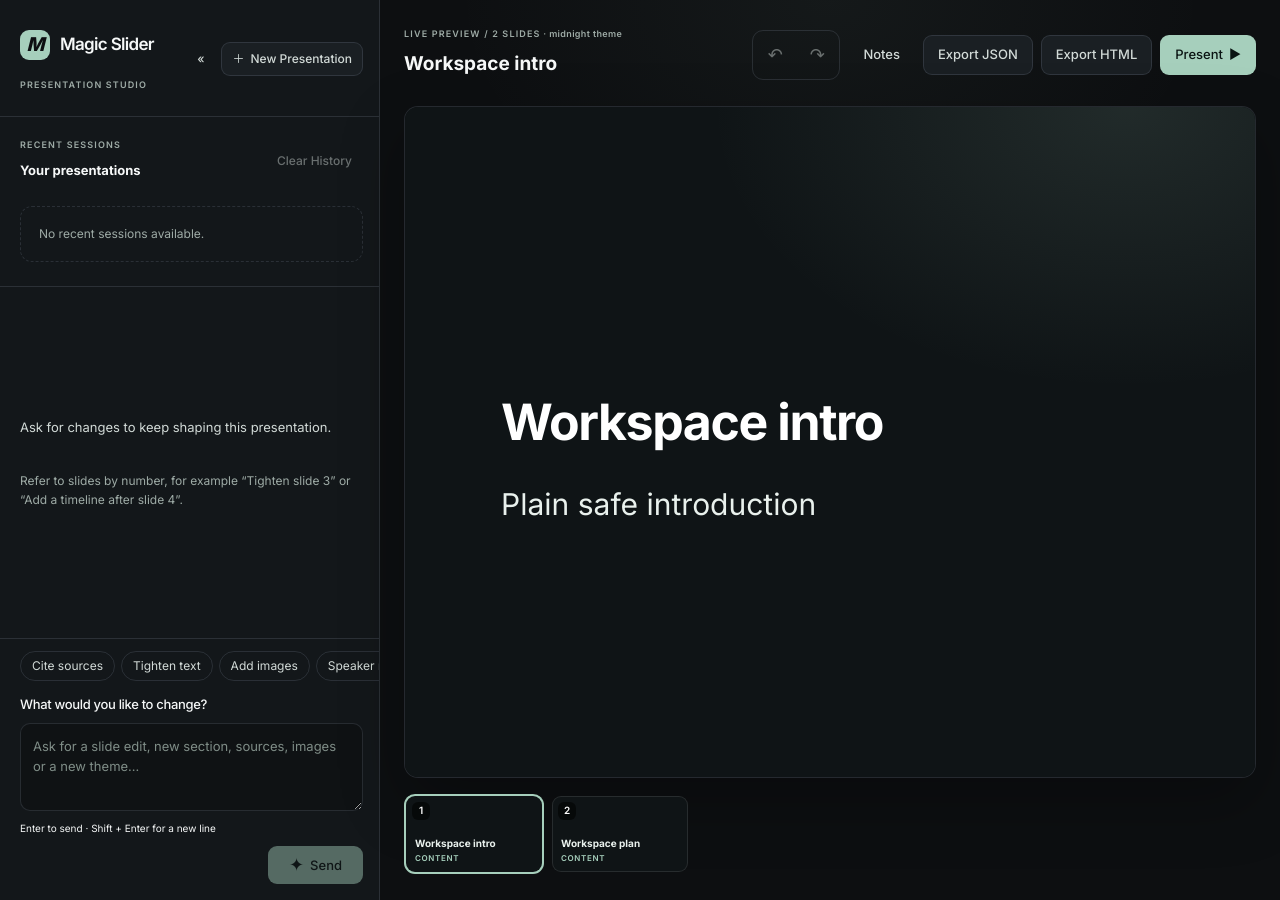
Test: Workspace › requests fullscreen for the preview and follows browser entry and exit events
Click the button "Present ▶" at point(1208, 55), box [1160,35,1256,75]
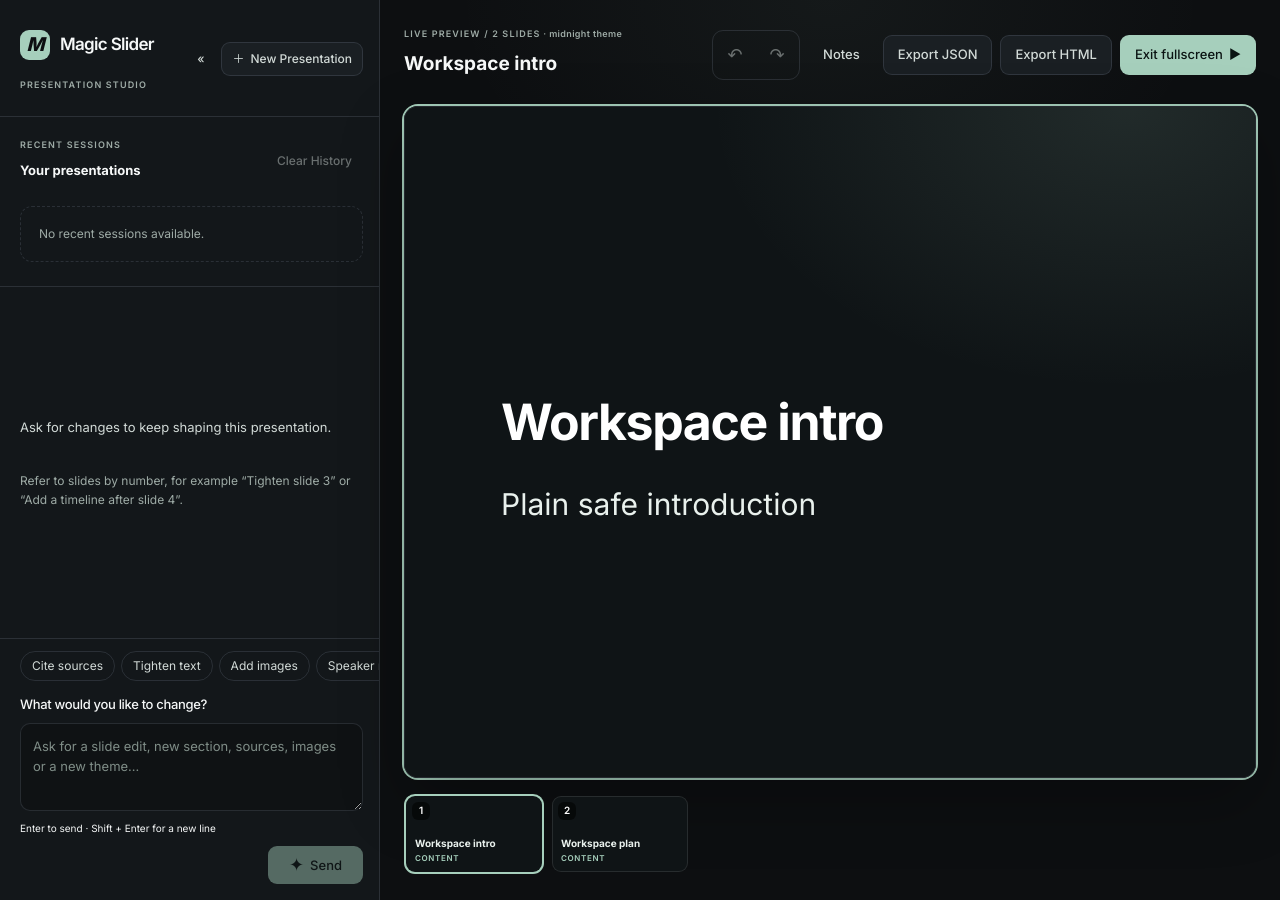
Click the button "Exit fullscreen ▶" at point(1188, 55), box [1120,35,1256,75]
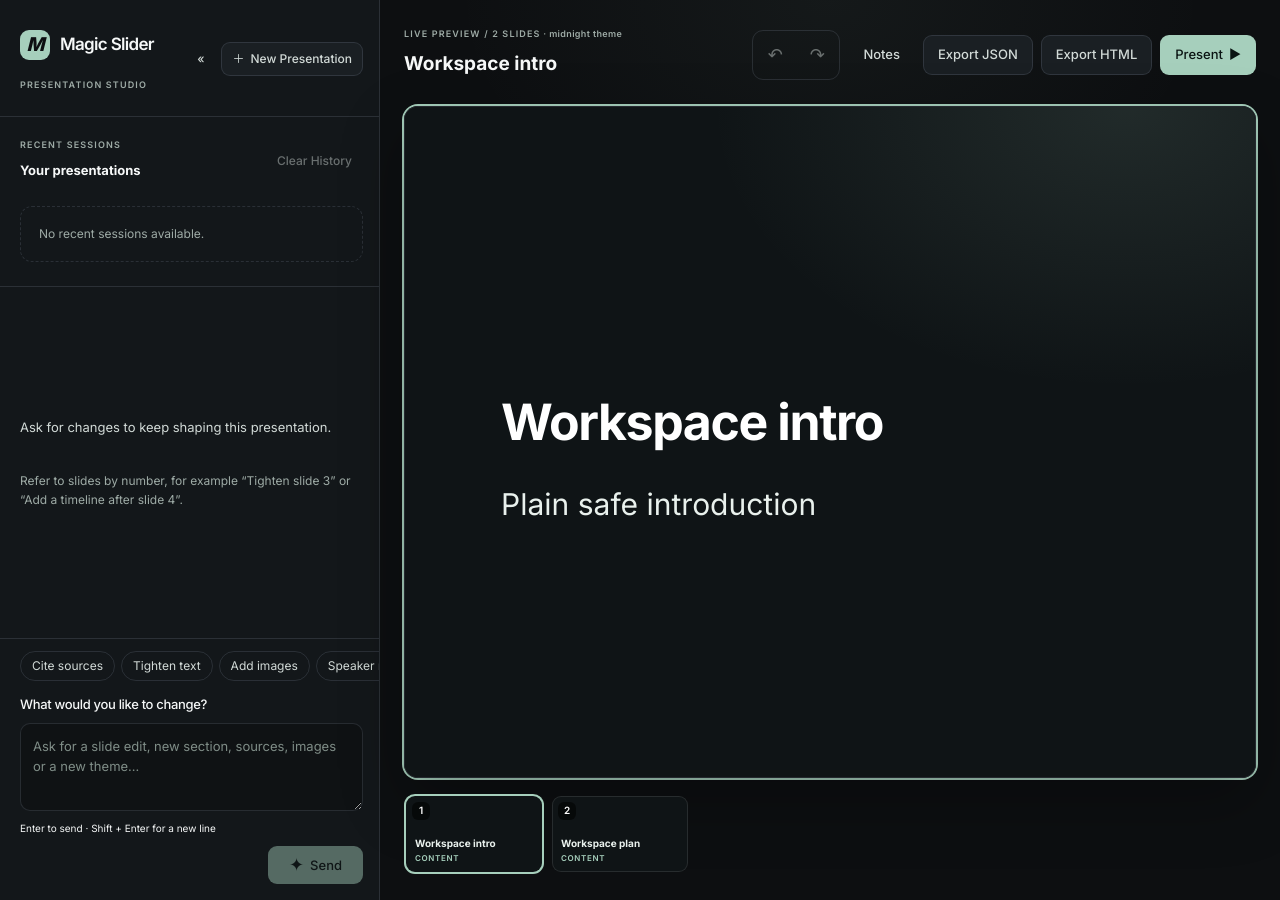
Now the button "Present ▶" is shown, box [1160,35,1256,75]
